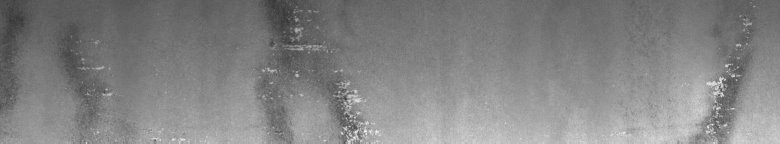hc: (256, 4, 381, 136)
